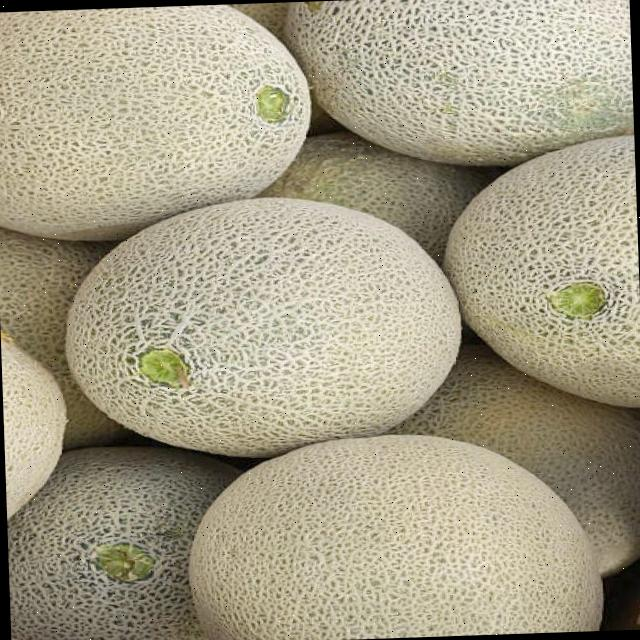Hami Melon: (62, 192, 467, 462), (187, 425, 602, 640), (0, 1, 310, 243), (280, 0, 635, 174), (437, 132, 640, 415)
